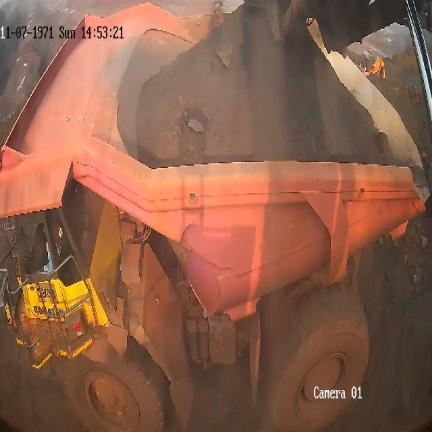pile: (143, 7, 388, 164)
